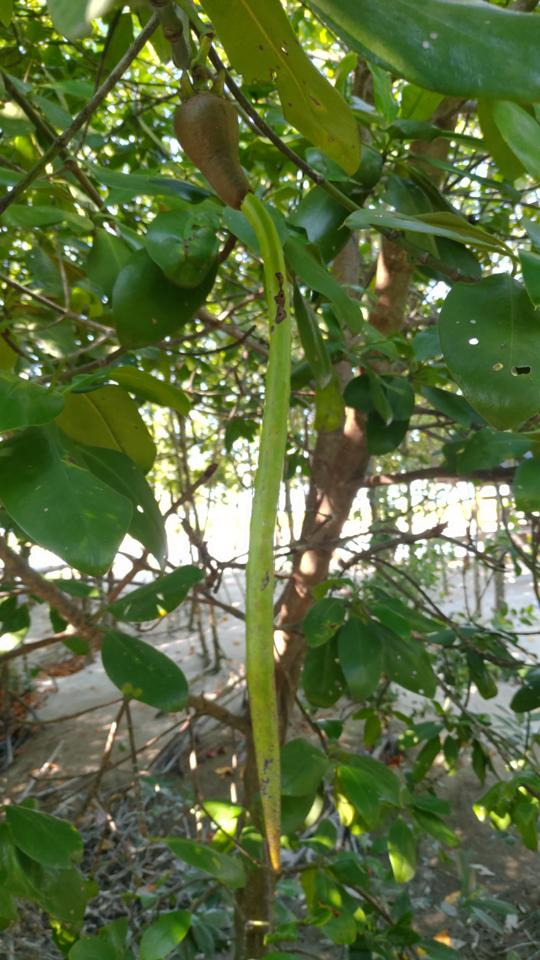mentah: (161, 59, 311, 889)
